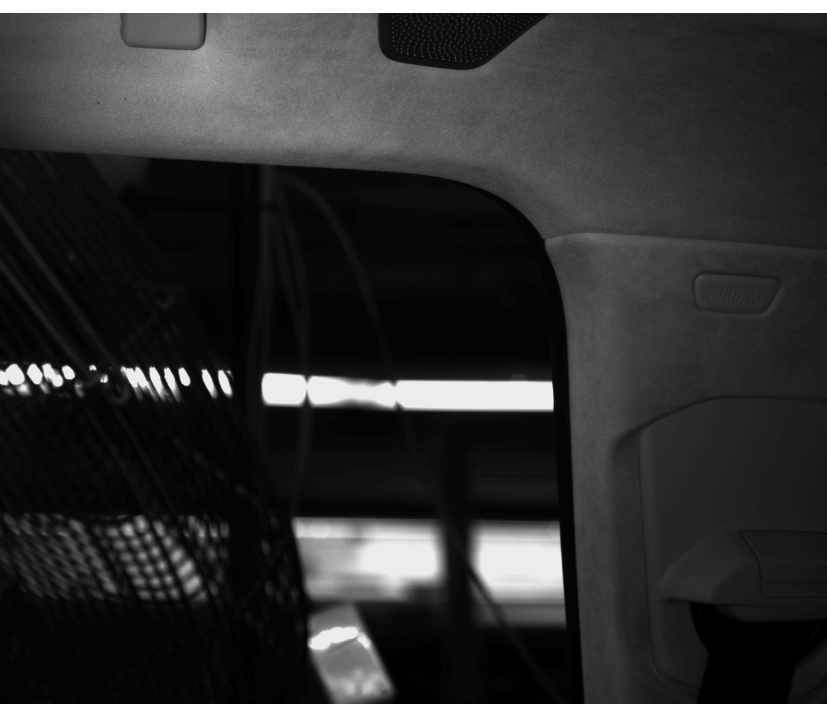camerafault: (666, 256, 798, 342)
